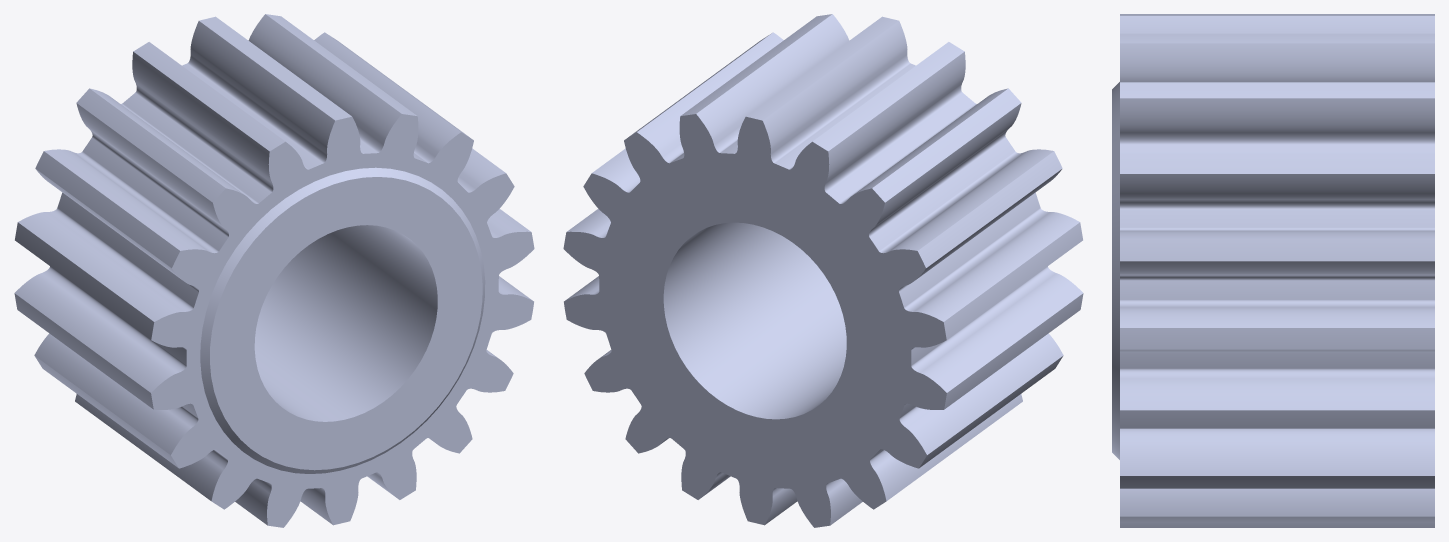
The model's file is REV_21_2101_P05_9_solid1.obj.
The picture shows the model from 3 angles, left to right: view 1: azimuth 30°, elevation 25°; view 2: azimuth 150°, elevation 25°; view 3: azimuth 270°, elevation 25°; orthographic projection. The views are drawn at different scales.
Parts seen in each view (by area): view 1: mesh27611, mesh27608, mesh27610, mesh27663, mesh27656, mesh27649, mesh27684, mesh27654, mesh27661, mesh27609, mesh27651, mesh27607 (+22 smaller); view 2: mesh27612, mesh27610, mesh27663, mesh27656, mesh27649, mesh27684, mesh27654, mesh27661, mesh27609, mesh27651, mesh27628, mesh27629 (+19 smaller); view 3: mesh27674, mesh27681, mesh27676, mesh27683, mesh27677, mesh27670, mesh27680, mesh27614, mesh27616, mesh27615, mesh27646, mesh27679 (+16 smaller).
Part boxes in pixels (left/top/right/bottom): mesh27611: left=151, top=114, right=534, bottom=527; mesh27608: left=210, top=177, right=482, bottom=470; mesh27610: left=254, top=236, right=436, bottom=421; mesh27663: left=15, top=266, right=186, bottom=392; mesh27656: left=187, top=21, right=334, bottom=163; mesh27649: left=18, top=208, right=193, bottom=321; mesh27684: left=248, top=14, right=401, bottom=152; mesh27654: left=132, top=51, right=273, bottom=192; mesh27661: left=34, top=333, right=198, bottom=454; mesh27609: left=324, top=225, right=437, bottom=318; mesh27651: left=44, top=149, right=218, bottom=253; mesh27607: left=202, top=167, right=485, bottom=330; mesh27612: left=563, top=114, right=946, bottom=527; mesh27610: left=665, top=234, right=846, bottom=419; mesh27663: left=911, top=266, right=1082, bottom=392; mesh27656: left=763, top=21, right=910, bottom=163; mesh27649: left=904, top=208, right=1079, bottom=321; mesh27684: left=696, top=14, right=849, bottom=152; mesh27654: left=824, top=51, right=965, bottom=192; mesh27661: left=899, top=333, right=1063, bottom=454; mesh27609: left=663, top=222, right=777, bottom=315; mesh27651: left=879, top=149, right=1053, bottom=253; mesh27628: left=872, top=88, right=1021, bottom=202; mesh27629: left=918, top=151, right=1062, bottom=267; mesh27674: left=1120, top=428, right=1434, bottom=475; mesh27681: left=1120, top=98, right=1434, bottom=144; mesh27676: left=1120, top=368, right=1434, bottom=410; mesh27683: left=1120, top=43, right=1434, bottom=82; mesh27677: left=1120, top=174, right=1434, bottom=208; mesh27670: left=1120, top=488, right=1434, bottom=516; mesh27680: left=1120, top=299, right=1434, bottom=327; mesh27614: left=1120, top=238, right=1434, bottom=261; mesh27616: left=1120, top=328, right=1434, bottom=349; mesh27615: left=1120, top=153, right=1434, bottom=173; mesh27646: left=1120, top=280, right=1434, bottom=299; mesh27679: left=1120, top=261, right=1434, bottom=280.
Bounding box in the file's own units: 0.0126 × 0.0127 × 0.008.
